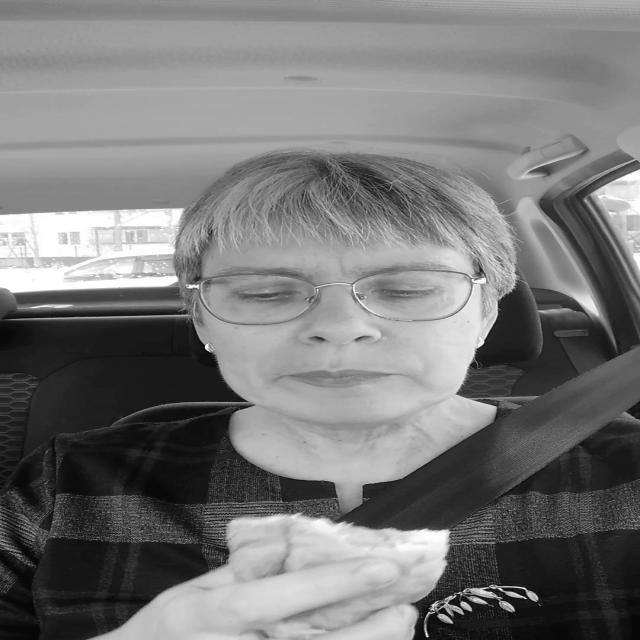Drinking: (222, 509, 455, 628)
Seatbelt: (348, 343, 640, 533)
